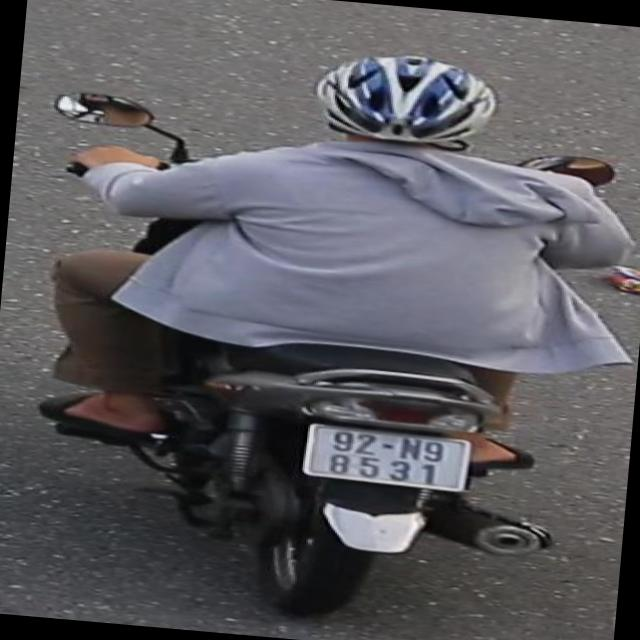LP: (295, 421, 479, 499)
helmet: (308, 42, 512, 168)
